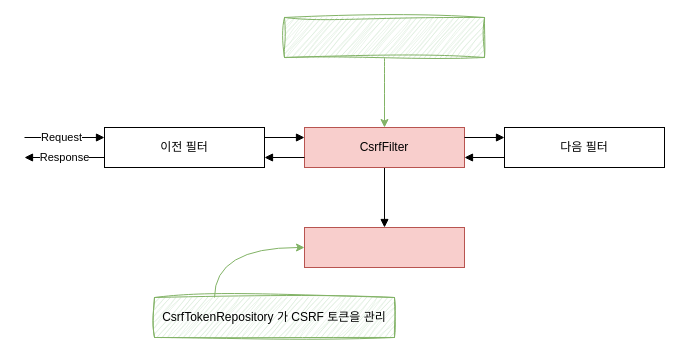
Image size: 682x355. Some labels were removed from this diagram. Here are the shapes that lost their labels. From the top down, the centre of each, then its label:
At (384,37): "CsrfFilter 가 요청을 가로채서 CSRF 보호 논리 적용".
At (384,247): "CsrfTokenRepository".
